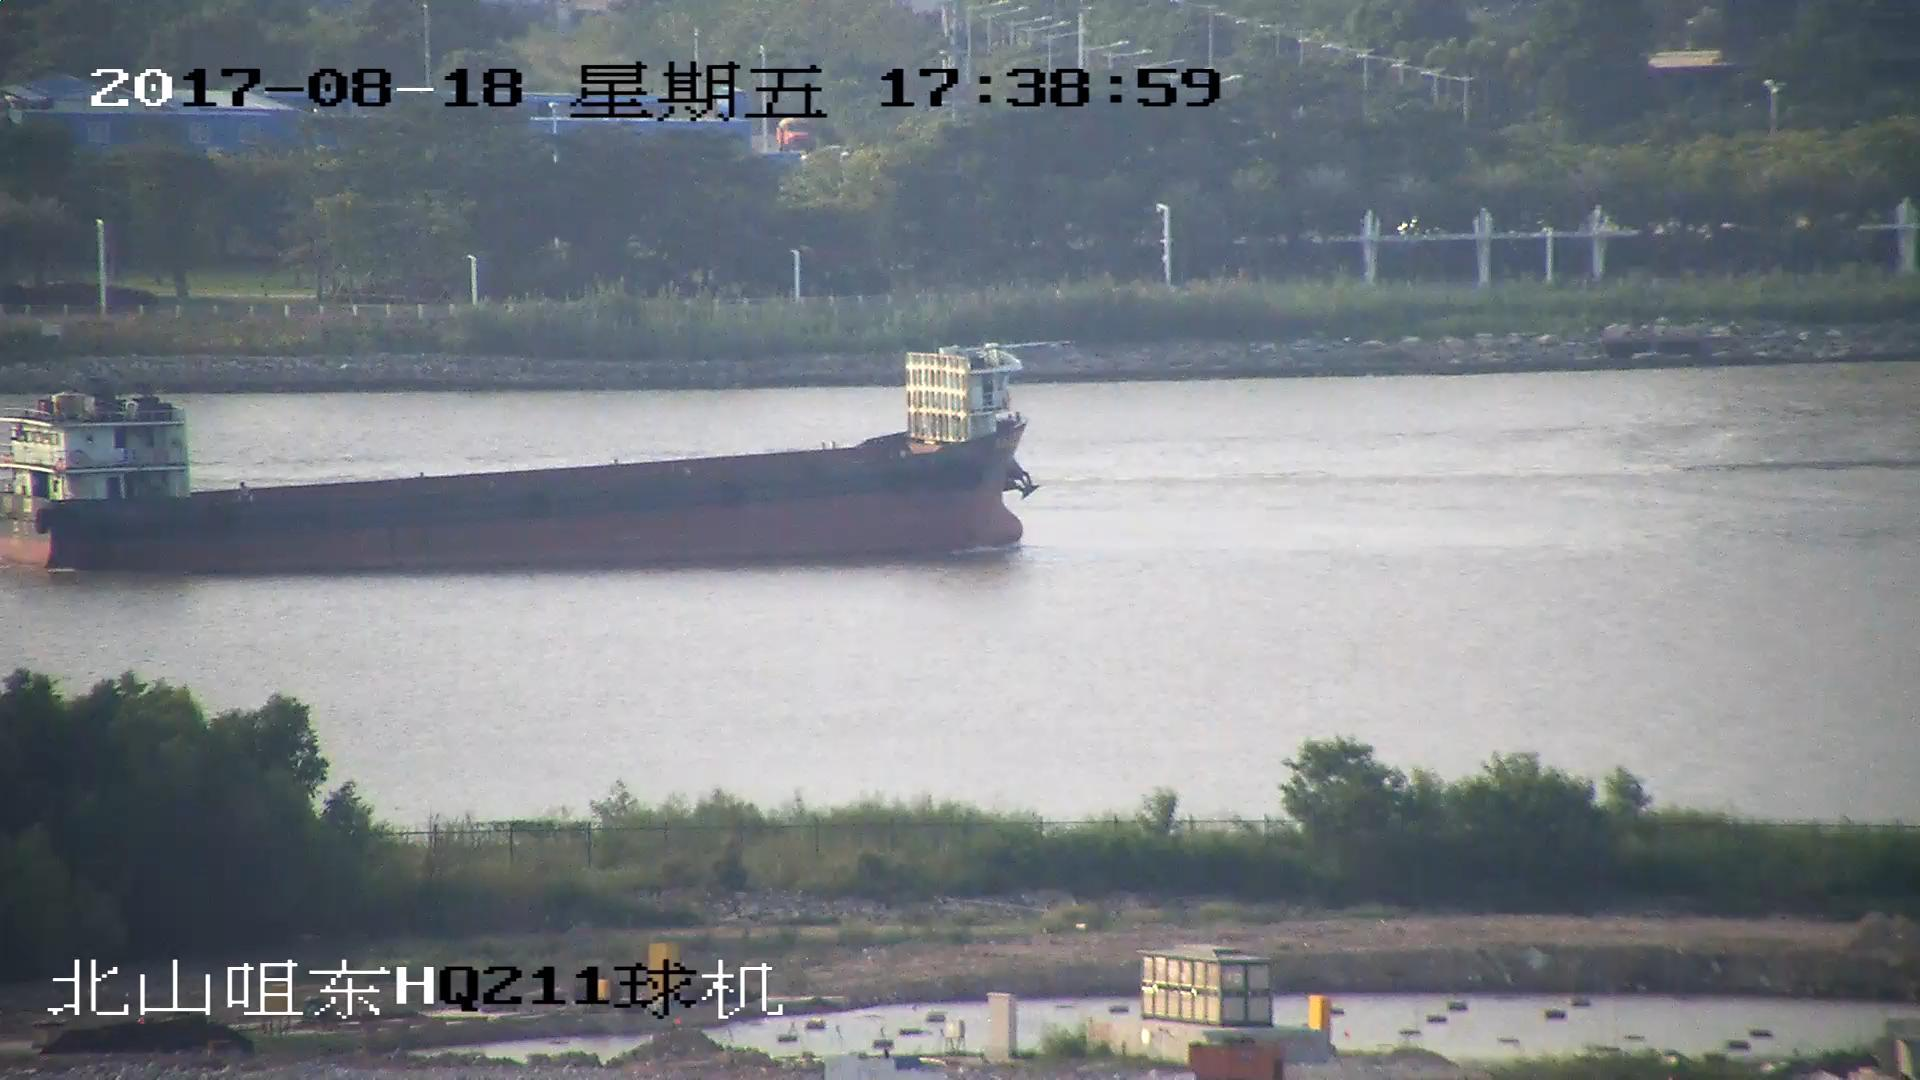Ship: (3, 353, 1033, 560)
